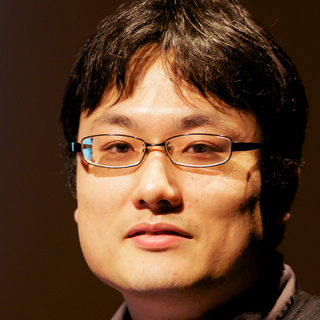eye: (97, 136, 140, 159), (179, 139, 222, 159)
